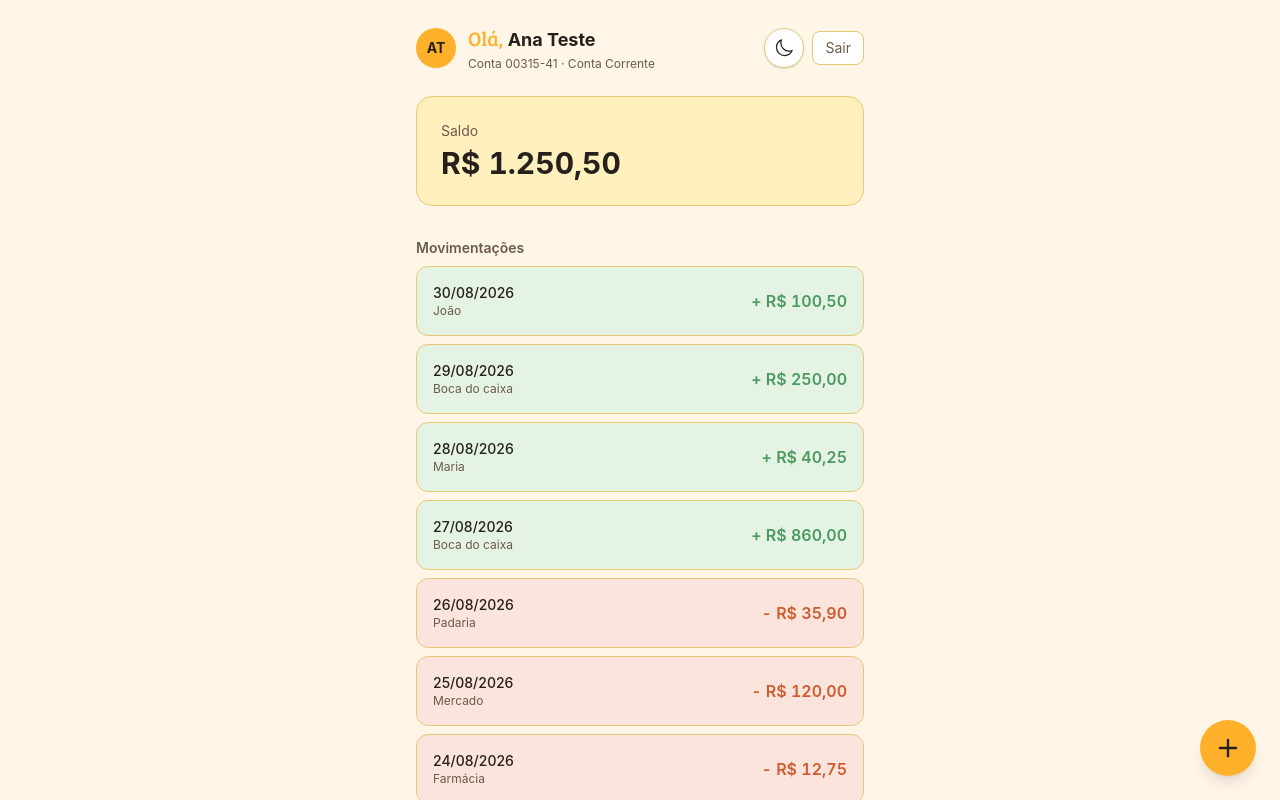
Test: ExtratoPage › abre o modal de avatar com as duas opções ao clicar no avatar
Click the button with aria-label "Opções do avatar": (436, 48) 416,28 -> 456,68
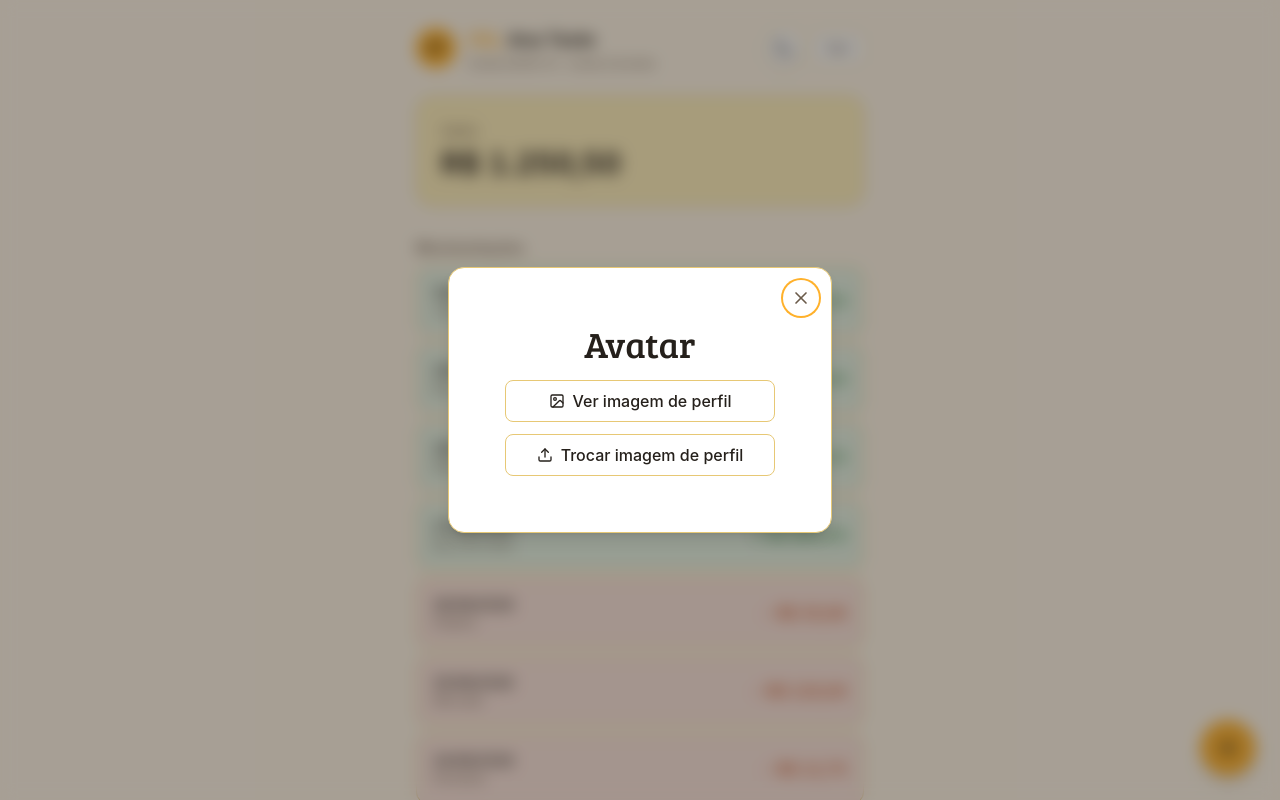
Check: the button "Ver imagem de perfil" is shown, box 505,380 -> 775,422
Check: the button "Trocar imagem de perfil" is shown, box 505,434 -> 775,476
